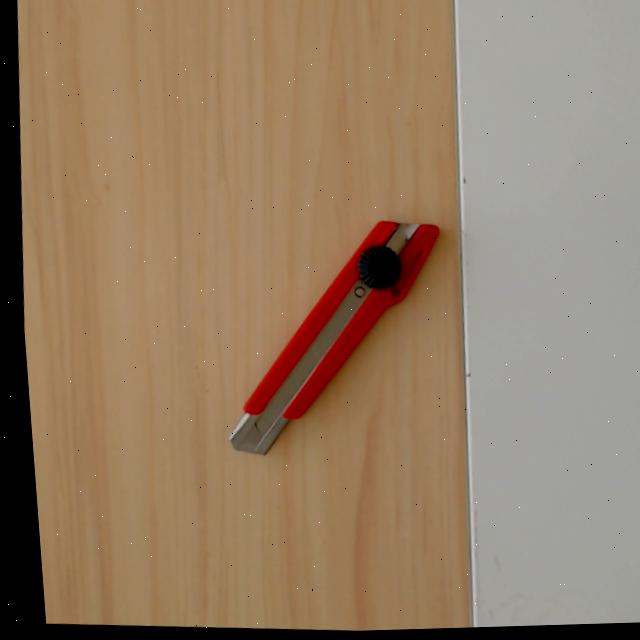Cutter-Besar: (204, 195, 451, 473)
